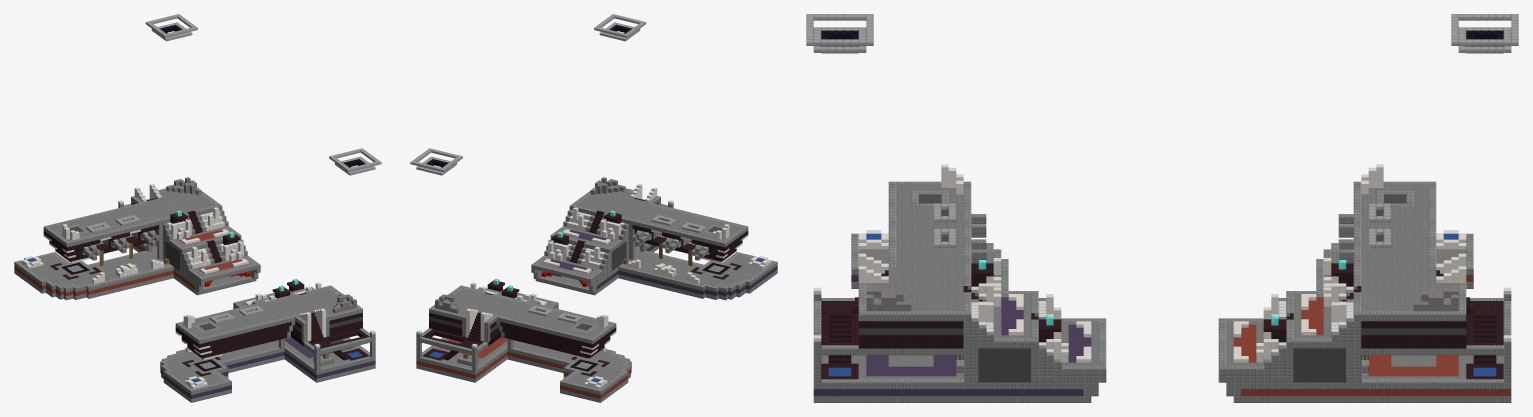
File: minecraft.obj
3 views of the same model, side by side, from view 1: azimuth 30°, elevation 25°; view 2: azimuth 150°, elevation 25°; view 3: azimuth 270°, elevation 25° (orthographic). The views are drawn at different scales.
Size of the model in its own units: 48 by 53.5 by 95.
